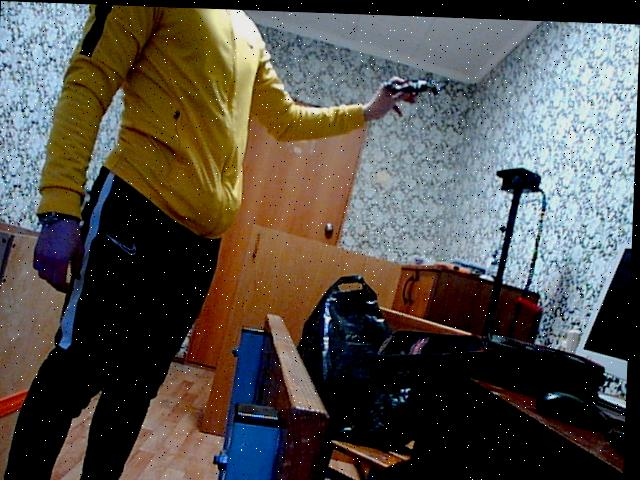drone: (375, 67, 445, 106)
